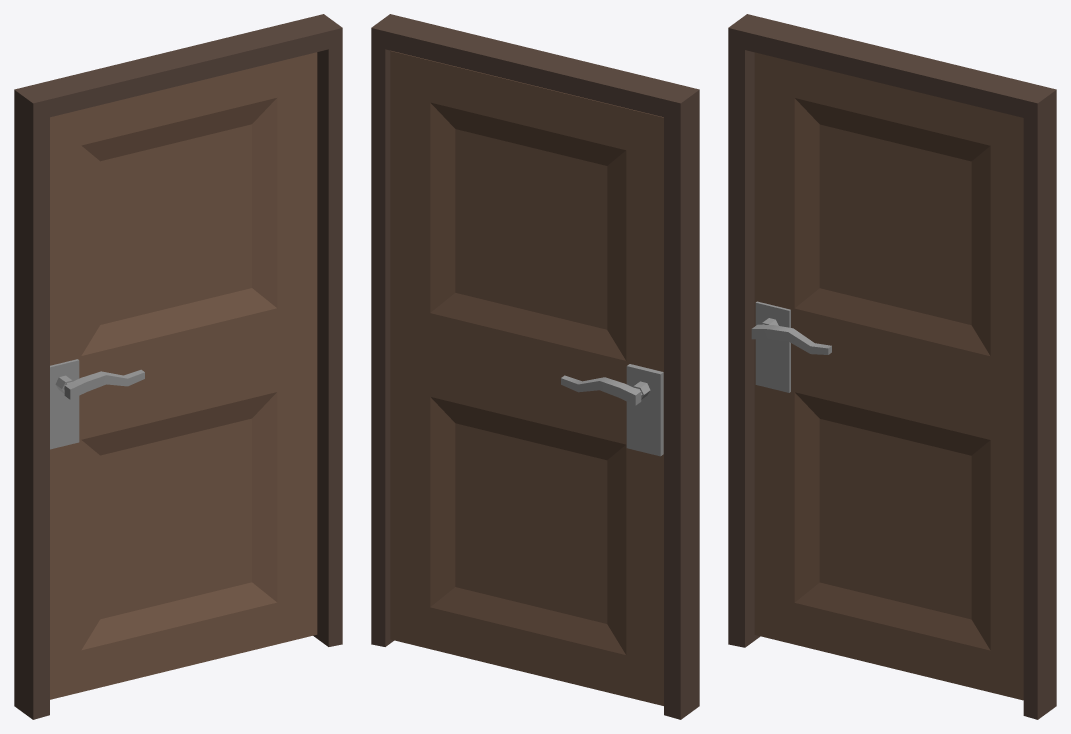
The model's file is door.fbx.
3 renders of one model, left to right at view 1: azimuth 30°, elevation 25°; view 2: azimuth 150°, elevation 25°; view 3: azimuth 330°, elevation 25°, orthographic.
Visible parts, largest first — view 1: door.001, walls.001; view 2: door.001, walls.001; view 3: door.001, walls.001.
Part boxes in pixels (x1,y1,x2,y2): door.001: [50, 52, 317, 699]; walls.001: [14, 14, 342, 719]; door.001: [390, 50, 663, 705]; walls.001: [371, 14, 699, 719]; door.001: [751, 52, 1023, 700]; walls.001: [728, 14, 1056, 719].
Bounding box in the file's own units: 124 × 236 × 28.16.
